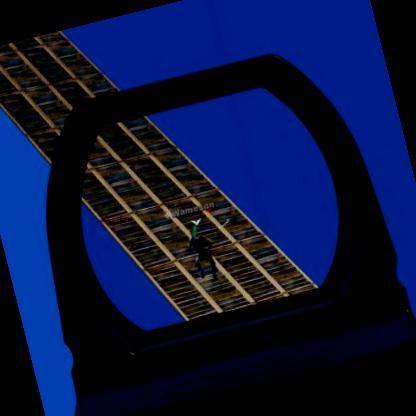person: (186, 232, 221, 282)
